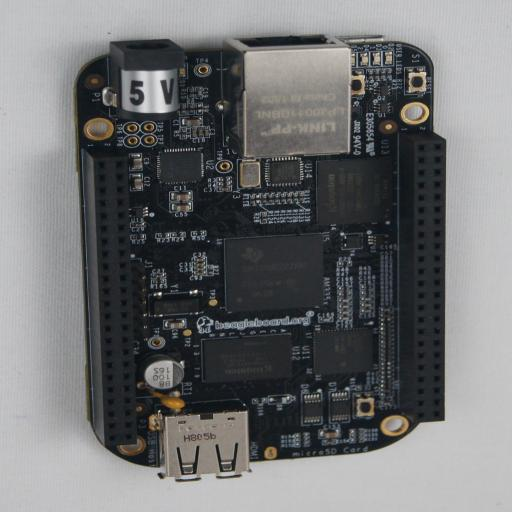Beaglebone Black: (74, 34, 446, 482)
